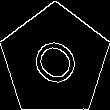O_SE: (23, 28, 87, 93)
